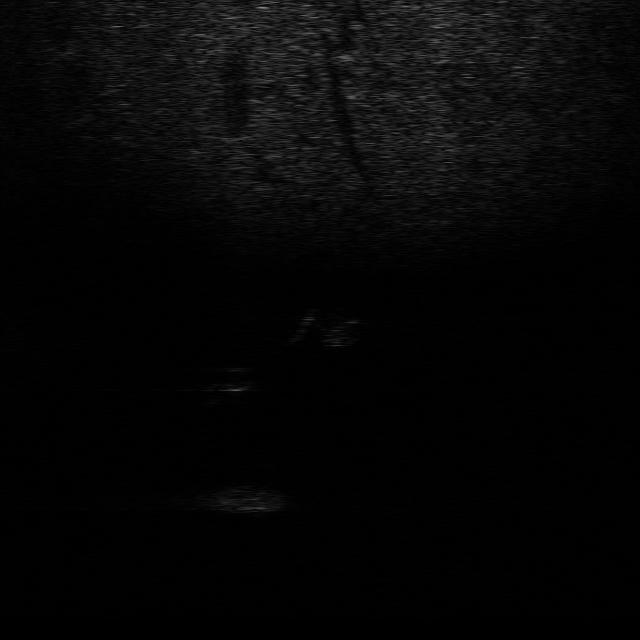ball: (205, 362, 261, 397)
circle cage: (199, 482, 286, 518)
human body: (280, 304, 365, 350)
